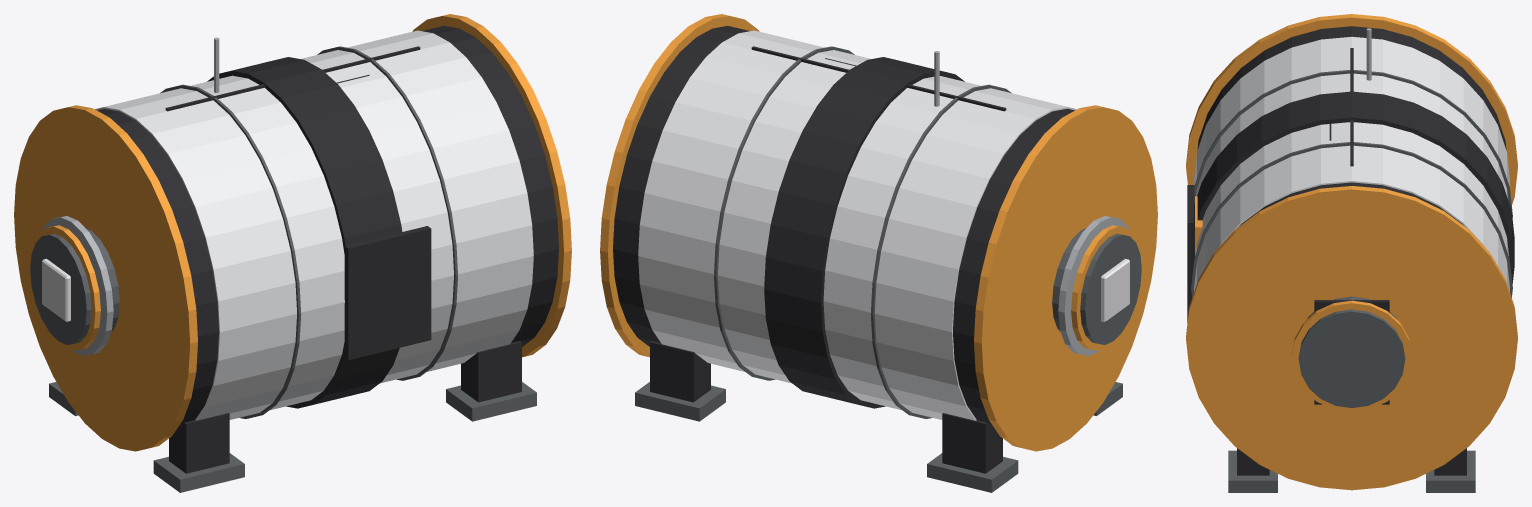
The model's file is SM_Hero_HAB.glb.
The picture shows the model from 3 angles, left to right: view 1: azimuth 30°, elevation 25°; view 2: azimuth 150°, elevation 25°; view 3: azimuth 270°, elevation 25°; orthographic projection. The views are drawn at different scales.
Visible parts, largest first — view 1: SM_Hero_HAB; view 2: SM_Hero_HAB; view 3: SM_Hero_HAB.
Boxes of the visible parts, left/top/right/bottom form: SM_Hero_HAB: left=14, top=14, right=571, bottom=492; SM_Hero_HAB: left=600, top=14, right=1157, bottom=492; SM_Hero_HAB: left=1186, top=14, right=1517, bottom=492.
Size of the model in its own units: 6 by 4.51 by 3.86.
